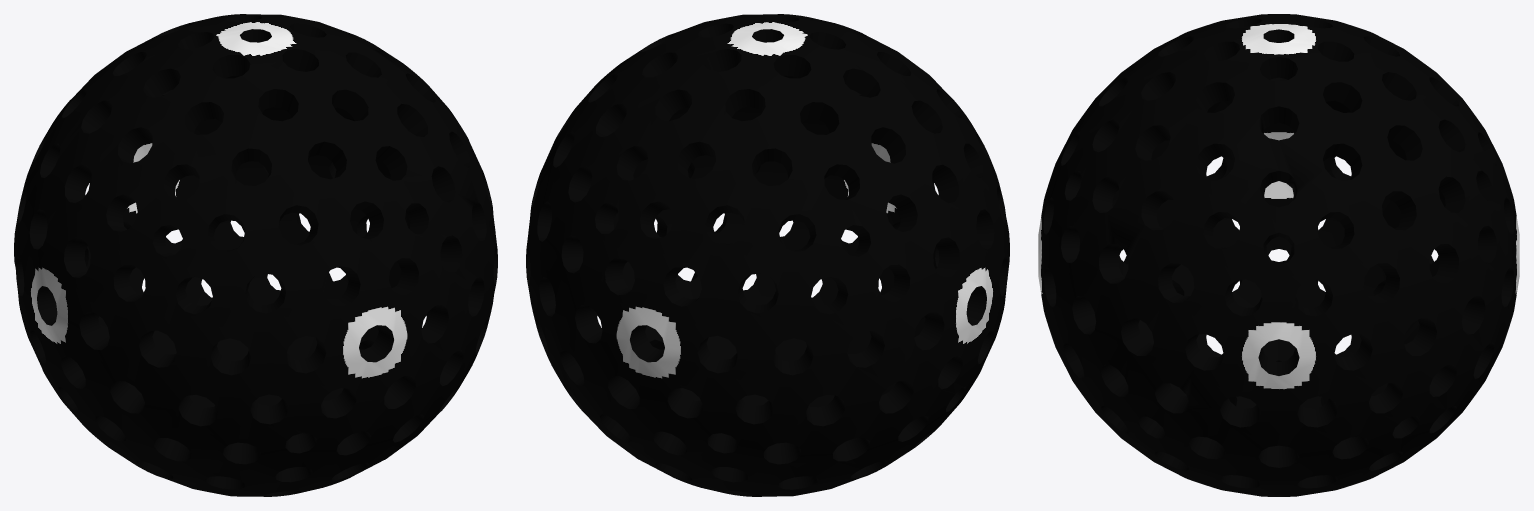
File: PierdedBall.fbx
3 views of the same model, side by side, from view 1: azimuth 30°, elevation 25°; view 2: azimuth 150°, elevation 25°; view 3: azimuth 270°, elevation 25° (orthographic).
Parts seen in each view (by area): view 1: PiercedBall; view 2: PiercedBall; view 3: PiercedBall.
Part boxes in pixels (x1,y1,x2,y2): PiercedBall: [14, 14, 497, 496]; PiercedBall: [526, 14, 1009, 496]; PiercedBall: [1038, 14, 1519, 496].
Size of the model in its own units: 1.97 by 1.97 by 1.98.
